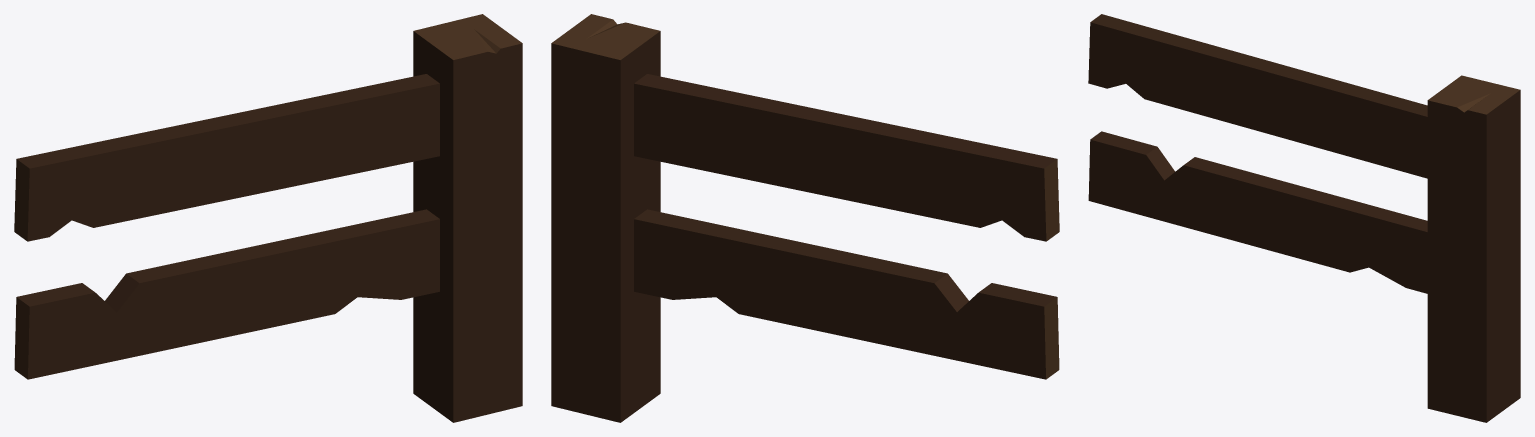
File: Cave_Lair_Wooden_Timber_Fence_Broken_Small_04.fbx
3 views of the same model, side by side, from view 1: azimuth 30°, elevation 25°; view 2: azimuth 150°, elevation 25°; view 3: azimuth 330°, elevation 25° (orthographic). The views are drawn at different scales.
Visible parts, largest first — view 1: Cave_Lair_Wooden_Timber_Fence_Broken_Small_04; view 2: Cave_Lair_Wooden_Timber_Fence_Broken_Small_04; view 3: Cave_Lair_Wooden_Timber_Fence_Broken_Small_04.
Part boxes in pixels (x1,y1,x2,y2): Cave_Lair_Wooden_Timber_Fence_Broken_Small_04: [14, 14, 522, 422]; Cave_Lair_Wooden_Timber_Fence_Broken_Small_04: [551, 14, 1059, 422]; Cave_Lair_Wooden_Timber_Fence_Broken_Small_04: [1088, 14, 1520, 422].
Size of the model in its own units: 1.56 by 1.12 by 0.225.
